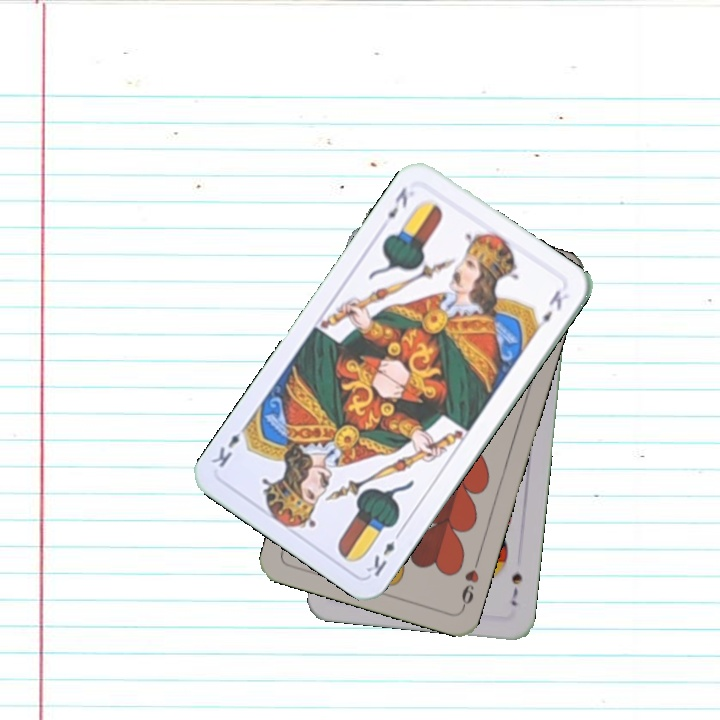EK: (362, 526, 405, 580), (383, 183, 411, 221)
H9: (457, 554, 483, 611)
S7: (507, 568, 525, 608)
